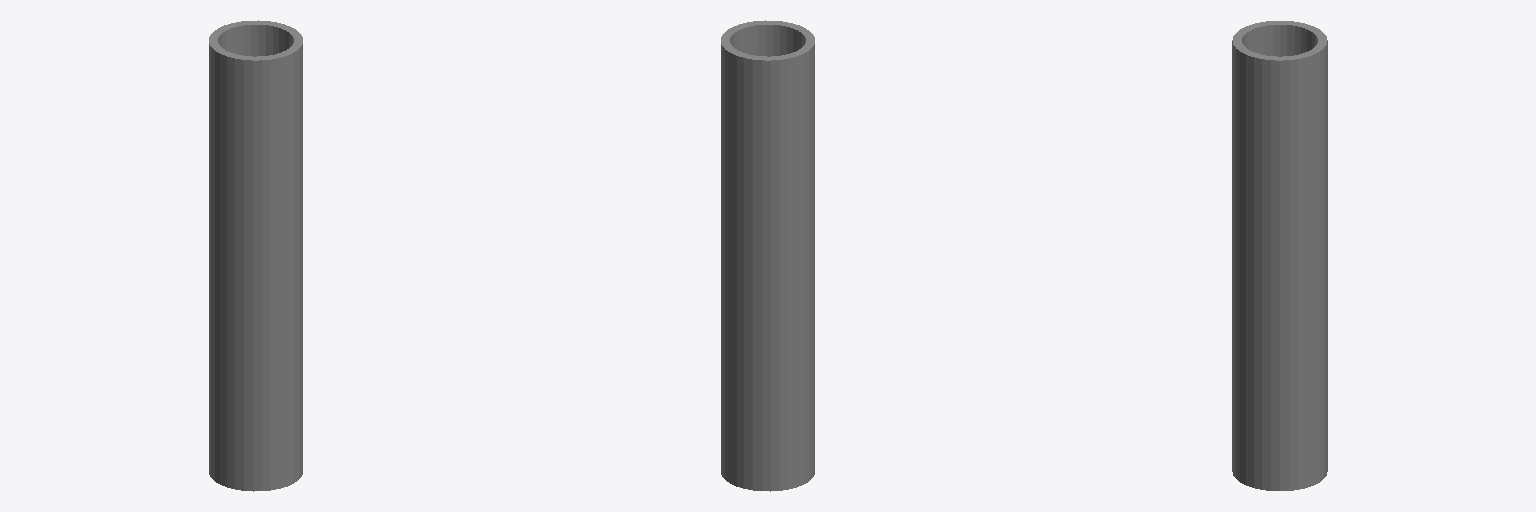
URDF robot description (cylinder):
<?xml version="1.0"?>
<robot name="cylinder">

  <link name="cylinder">
    <visual>
      <origin rpy="1.5708 0 0" xyz="0 0 0"/>
      <geometry>
        <mesh filename="meshes/cylinder.obj"/>
      </geometry>
      <material name="gray">
        <color rgba="0.6 0.6 0.6 1"/>
      </material>
    </visual>

    <collision>
      <origin rpy="1.5708 0 0" xyz="0 0 0"/>
      <geometry>
        <mesh filename="meshes/vhacd_cylinder.obj"/>
      </geometry>
    </collision>

    <inertial>
      <origin rpy="0 0 0" xyz="0 0 0"/>
      <mass value="1.0"/>
      <inertia ixx="0.001" iyy="0.001" izz="0.001"
               ixy="0" ixz="0" iyz="0"/>
    </inertial>
  </link>

</robot>

--- Facts derived from the render (not from the file) ---
3 views of the same robot in one strip: view 1: azimuth 30°, elevation 25°; view 2: azimuth 150°, elevation 25°; view 3: azimuth 270°, elevation 25° (orthographic).
Model cylinder with 1 links and 0 joints (none), rooted at cylinder, posed all joints at 0.
Visible links, largest first — view 1: cylinder; view 2: cylinder; view 3: cylinder.
Link boxes in pixels (left/top/right/bottom): cylinder: left=209, top=20, right=302, bottom=491; cylinder: left=721, top=20, right=814, bottom=491; cylinder: left=1232, top=21, right=1327, bottom=490.
Bounding box of the posed robot: 0.04 × 0.04 × 0.2 m (x, y, z).
Meshes: 1 distinct files referenced, 1 mesh visuals loaded (1 OBJ).
